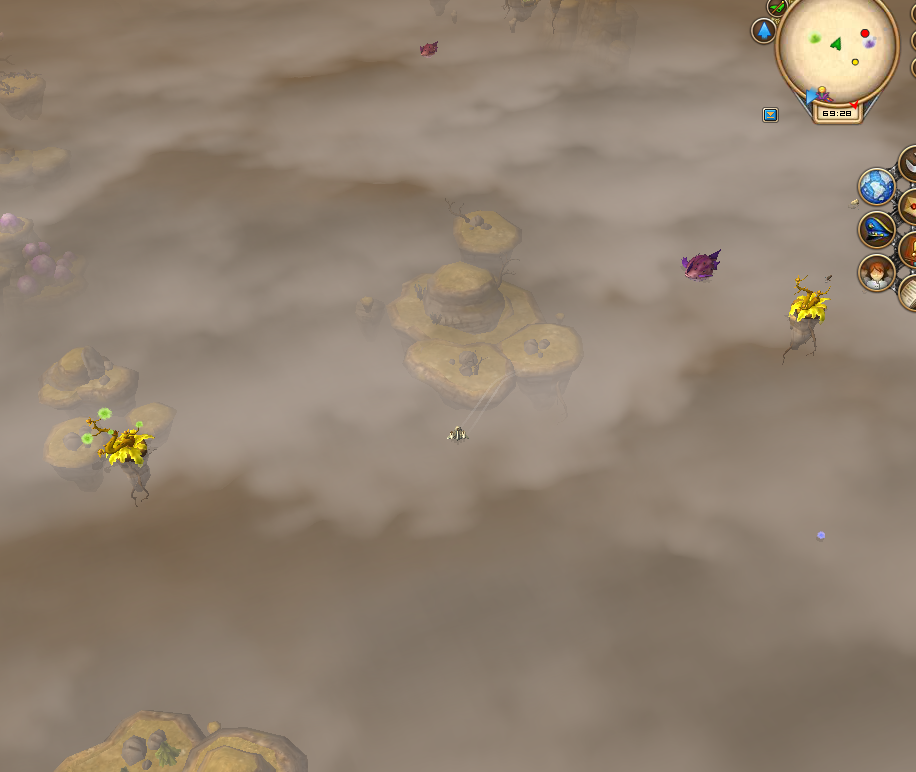dandelion-empty: (782, 271, 833, 365)
dandelion-full: (78, 402, 156, 506)
fluff: (811, 526, 829, 545)
